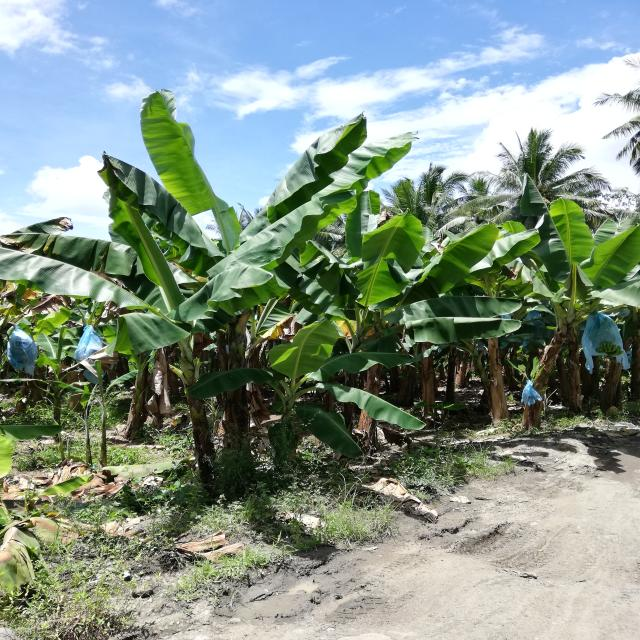Banana-plant: (516, 293, 608, 429), (170, 321, 220, 505)
